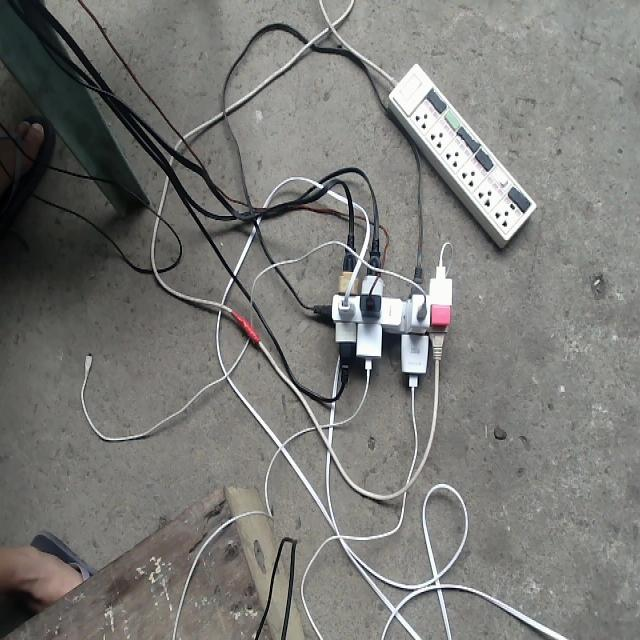-: (299, 229, 453, 391)
